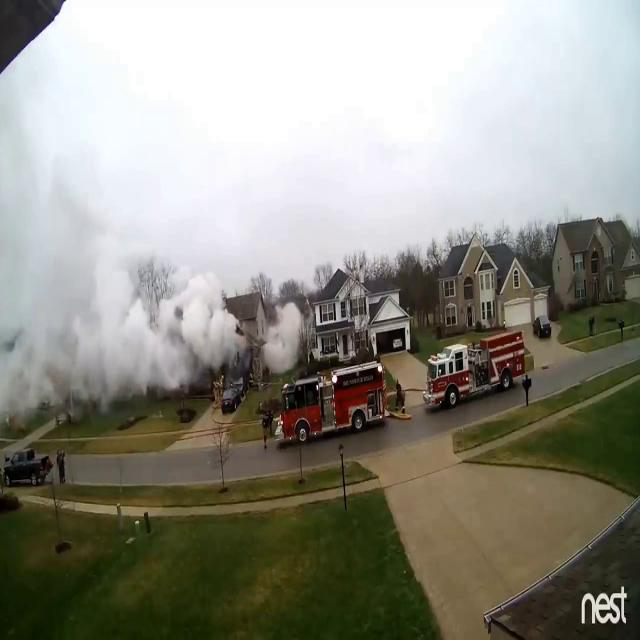Smoke: (0, 95, 244, 428), (260, 296, 304, 376)
